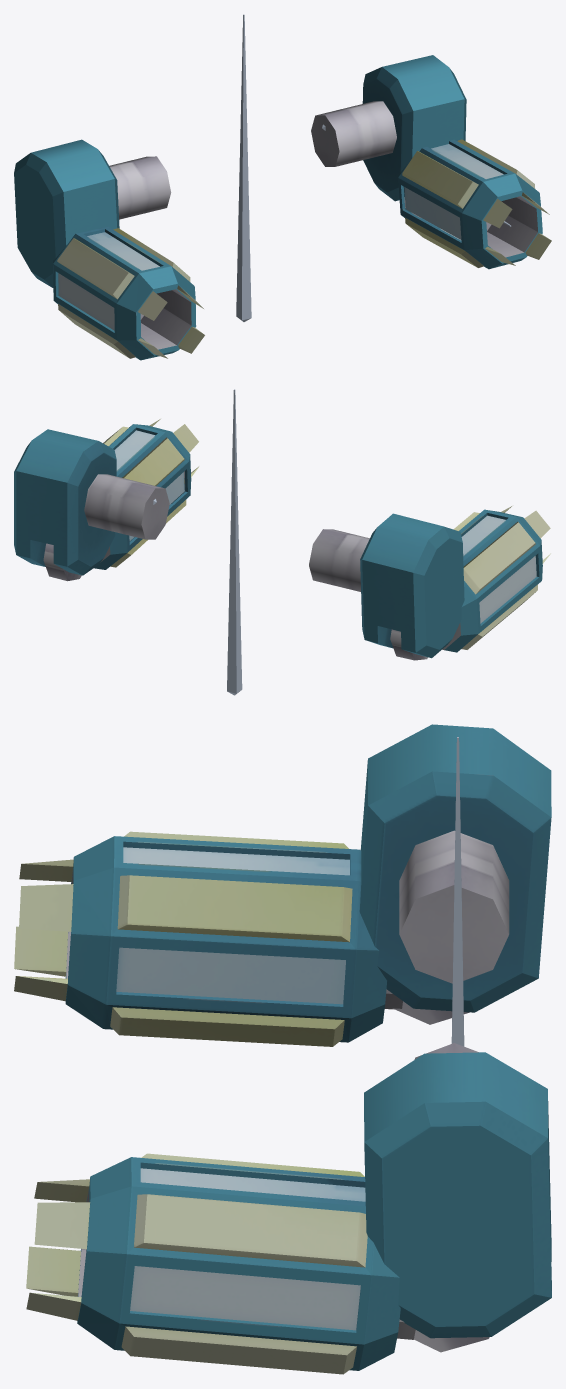
Rendered from player_arm4.obj.
3 views of the same model, one above another, from view 1: azimuth 30°, elevation 25°; view 2: azimuth 150°, elevation 25°; view 3: azimuth 270°, elevation 25° (orthographic). The views are drawn at different scales.
Parts seen in each view (by area): view 1: Object009, Object010, Object007, Object008, Object005, Object006, Bone001; view 2: Object007, Object008, Object009, Object010, Object005, Bone001, Object006; view 3: Object009, Object010, Object008, Object007, Object006, Bone001.
Part boxes in pixels (bbox=[...]): Object009: bbox=[53, 226, 204, 360]; Object010: bbox=[398, 139, 551, 269]; Object007: bbox=[14, 139, 119, 287]; Object008: bbox=[362, 55, 466, 201]; Object005: bbox=[311, 101, 396, 166]; Object006: bbox=[109, 156, 171, 219]; Bone001: bbox=[236, 14, 251, 321]; Object007: bbox=[360, 513, 464, 658]; Object008: bbox=[14, 429, 116, 575]; Object009: bbox=[390, 506, 550, 660]; Object010: bbox=[43, 419, 199, 581]; Object005: bbox=[84, 474, 169, 539]; Bone001: bbox=[227, 389, 242, 695]; Object006: bbox=[309, 529, 369, 591]; Object009: bbox=[14, 831, 469, 1046]; Object010: bbox=[26, 1153, 489, 1374]; Object008: bbox=[364, 1052, 551, 1338]; Object007: bbox=[359, 724, 551, 1012]; Object006: bbox=[399, 830, 509, 983]; Bone001: bbox=[451, 737, 464, 1046].
Size of the model in its own units: 175 by 120 by 98.7.
2 materials, 1 textured.
